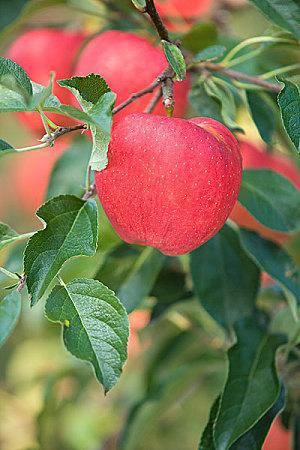apple: (95, 107, 242, 257)
